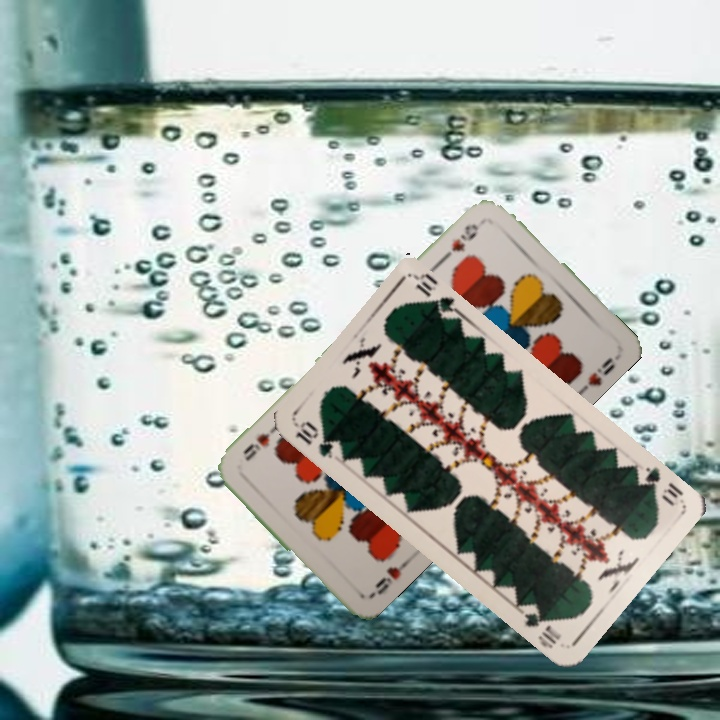G10: (632, 462, 686, 509), (291, 417, 336, 462)
H9: (366, 554, 414, 600), (447, 219, 481, 255)
